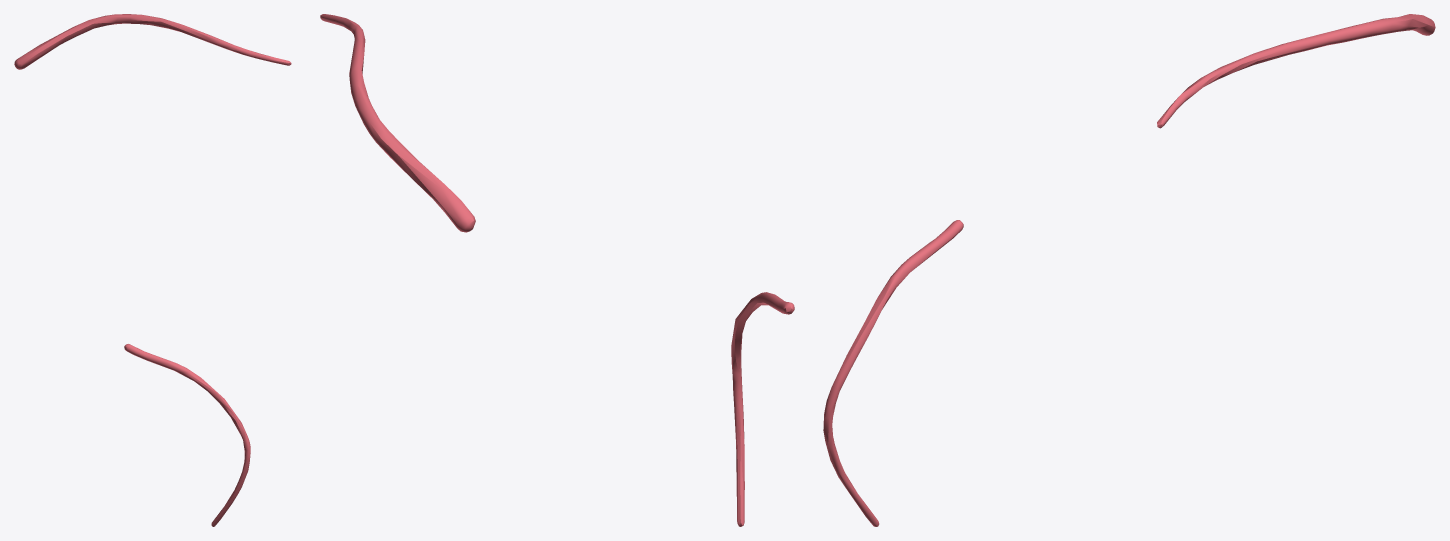
Rendered from fma70452_fj4537.glb.
3 views of the same model, side by side, from view 1: azimuth 30°, elevation 25°; view 2: azimuth 150°, elevation 25°; view 3: azimuth 270°, elevation 25° (orthographic). The views are drawn at different scales.
Visible parts, largest first — view 1: FMA70452_FJ4537; view 2: FMA70452_FJ4537; view 3: FMA70452_FJ4537.
Boxes of the visible parts, box(x1,y1,x2,y2) form: FMA70452_FJ4537: box(14, 14, 291, 526); FMA70452_FJ4537: box(320, 14, 794, 526); FMA70452_FJ4537: box(823, 14, 1435, 526).
Bounding box in the file's own units: 0.0312 × 0.048 × 0.0473.
